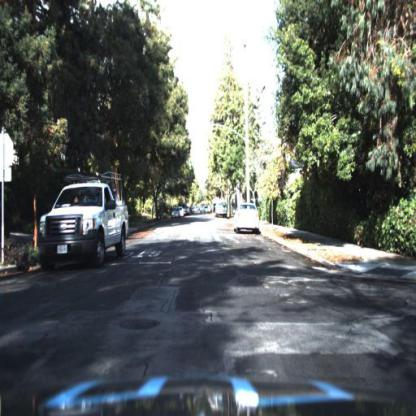car: (40, 159, 151, 285), (227, 192, 265, 239), (214, 195, 232, 224), (169, 207, 181, 224), (171, 205, 182, 220), (201, 204, 210, 215)
